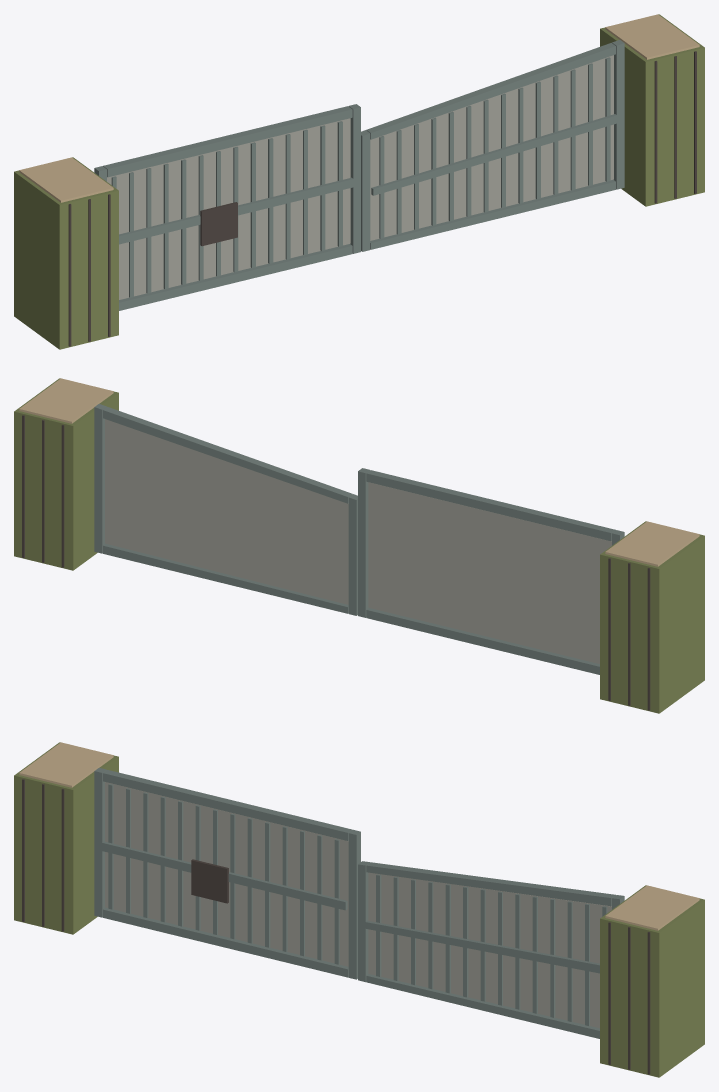
Rendered from SM_PuertaVehiculos_v1_ChapaOndulada_e1_Danado_LOD0.fbx.
3 views of the same model, one above another, from view 1: azimuth 30°, elevation 25°; view 2: azimuth 150°, elevation 25°; view 3: azimuth 330°, elevation 25° (orthographic).
Visible parts, largest first — view 1: Hoja_O, Hoja_E, SM_bloques.puerta_estados_v5_LOD0; view 2: Hoja_O, Hoja_E, SM_bloques.puerta_estados_v5_LOD0; view 3: Hoja_O, Hoja_E, SM_bloques.puerta_estados_v5_LOD0.
Boxes of the visible parts, <box> form: Hoja_O: <box>94,104,360,310</box>; Hoja_E: <box>361,40,624,251</box>; SM_bloques.puerta_estados_v5_LOD0: <box>14,14,704,349</box>; Hoja_O: <box>358,468,624,674</box>; Hoja_E: <box>94,404,357,615</box>; SM_bloques.puerta_estados_v5_LOD0: <box>14,378,704,713</box>; Hoja_O: <box>94,768,360,979</box>; Hoja_E: <box>358,861,624,1038</box>; SM_bloques.puerta_estados_v5_LOD0: <box>14,742,704,1077</box>.
Size of the model in its own units: 9.8 by 2.16 by 1.24.
